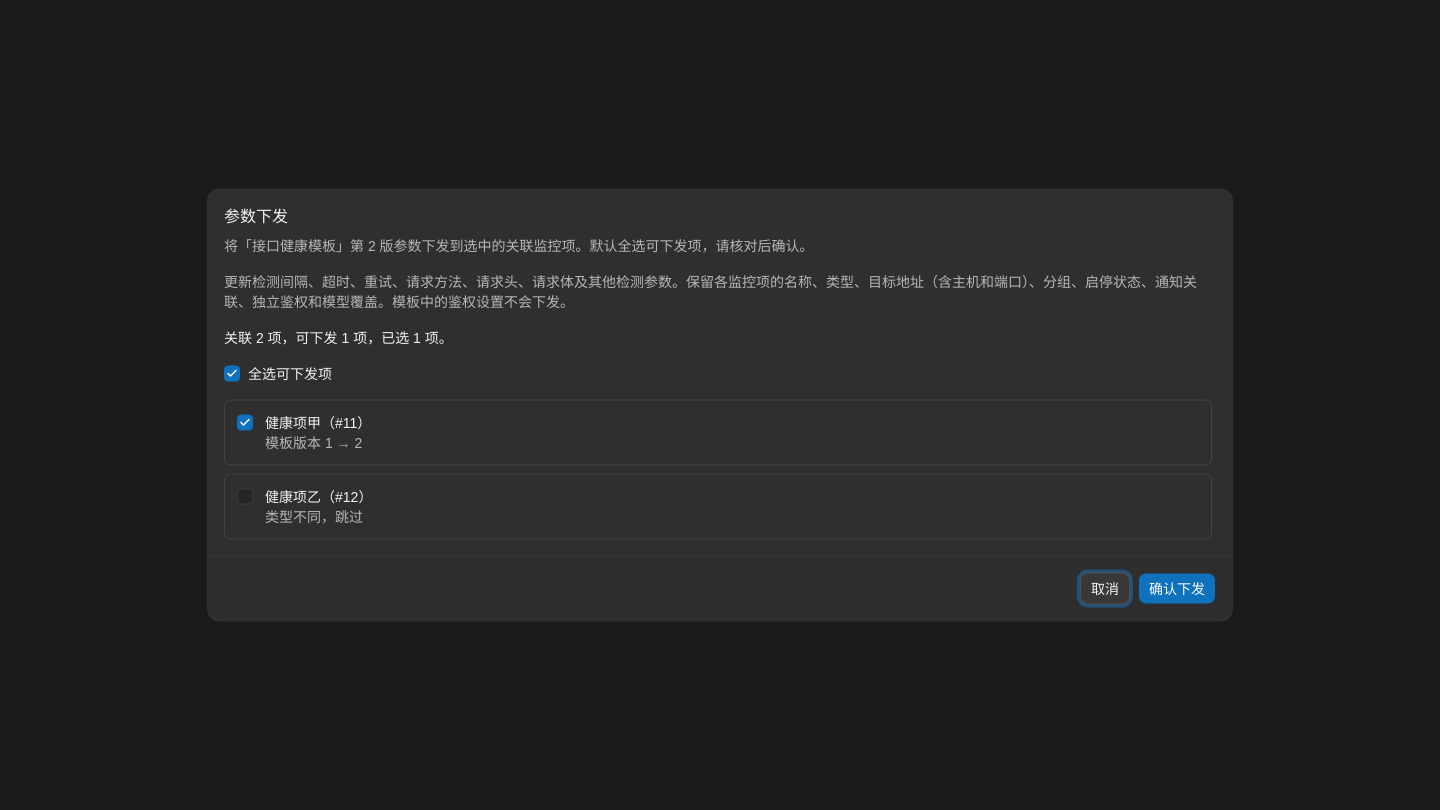
Scenario: 确认影响范围后仅提交一次并展示逐项结果，完成后刷新监控缓存
Check: the list named "参数下发影响范围" is shown, box [224,400,1212,540]
Click the button "确认下发" at (1177, 588), box [1138,572,1216,604]
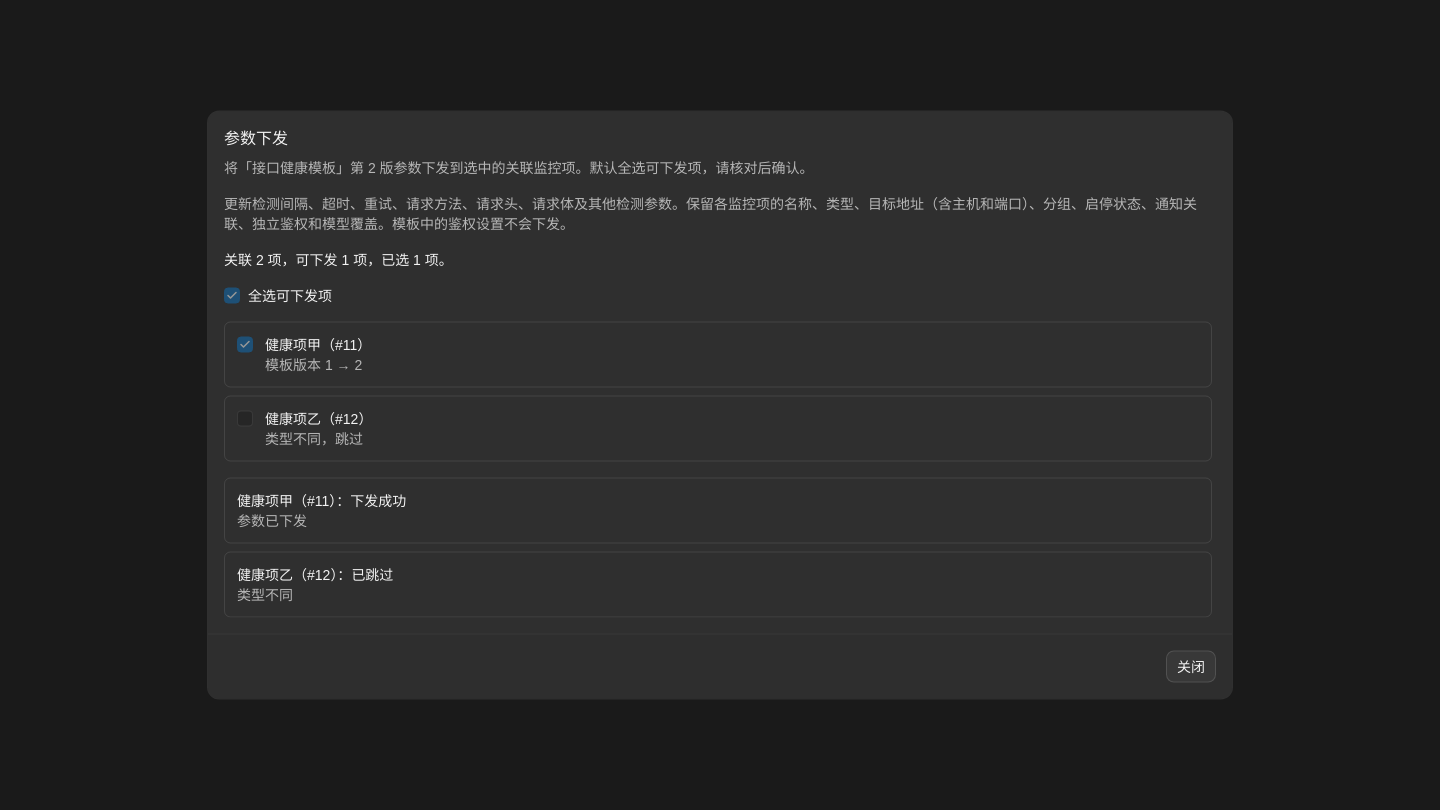
Check: the list named "参数下发结果" shows "下发成功", box [350,492,406,508]
Check: the list named "参数下发结果" shows "已跳过", box [351,566,393,582]
Check: the button "确认下发" is gone
